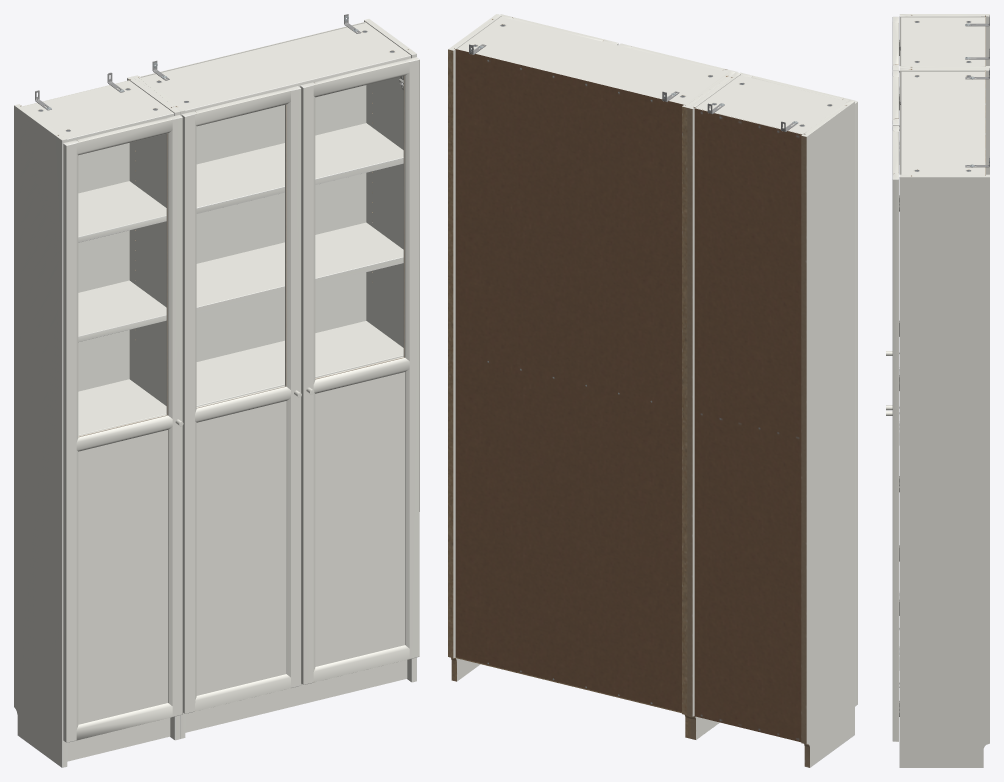
The model's file is 01 - BILLY OXBERG Bookcase with panelglass doors - whiteglass 120x30x202 cm.glb.
3 renders of one model, left to right at view 1: azimuth 30°, elevation 25°; view 2: azimuth 150°, elevation 25°; view 3: azimuth 270°, elevation 25°, orthographic. The views are drawn at different scales.
Bounding box in the file's own units: 1.2 × 2.05 × 0.3221.
Materials: 2 (1 with a texture image).
